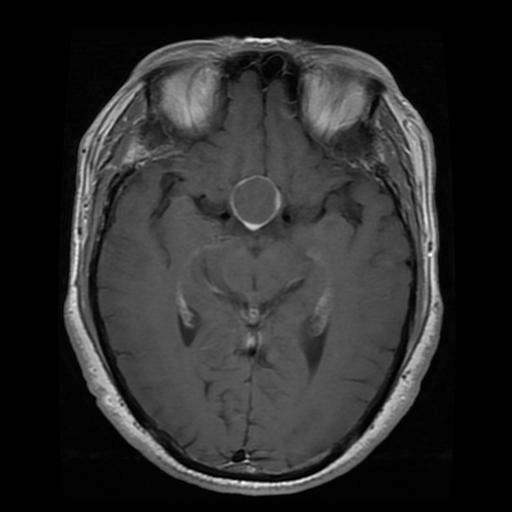Tumour-Pituitary: (225, 178, 286, 235)
